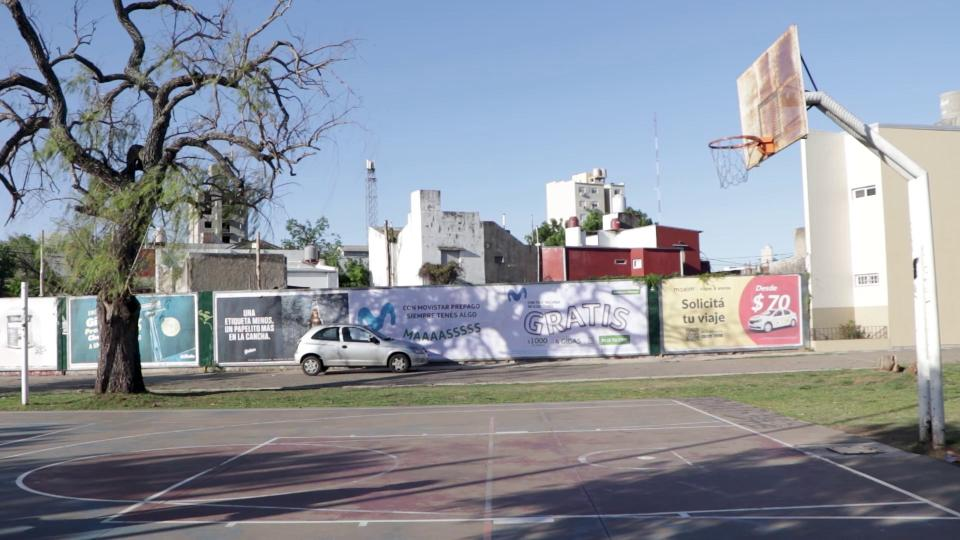hoop: (708, 135, 762, 150)
